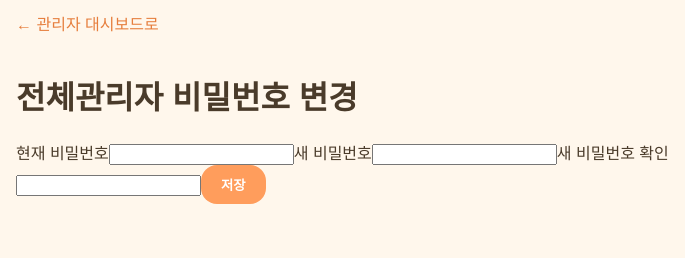
SuperAdminPasswordPage › 현재 비밀번호가 틀리면(재인증 실패) 에러 문구를 보여준다
Type "wrongpw" into the password field labelled "현재 비밀번호". click: (201, 154)
box: [109,144,294,165]
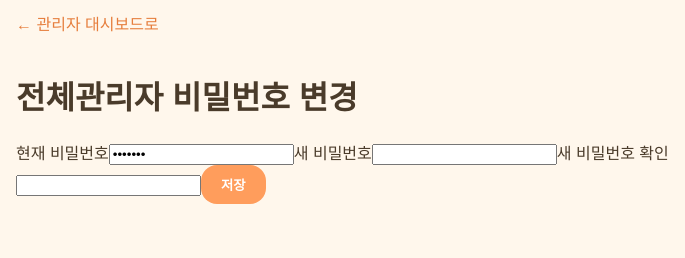
Type "newpw123" into the password field labelled "새 비밀번호". click: (464, 154)
box: [372,144,557,165]
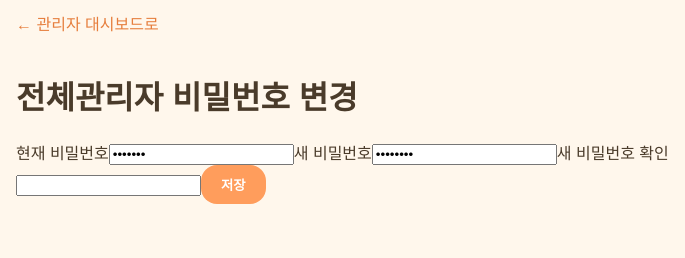
Type "newpw123" into the password field labelled "새 비밀번호 확인". click: (108, 185)
box: [16,175,201,196]
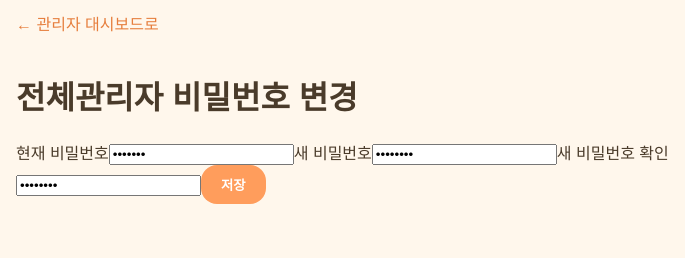
Click the button "저장". click: click(233, 184)
box: [201,165,266,204]
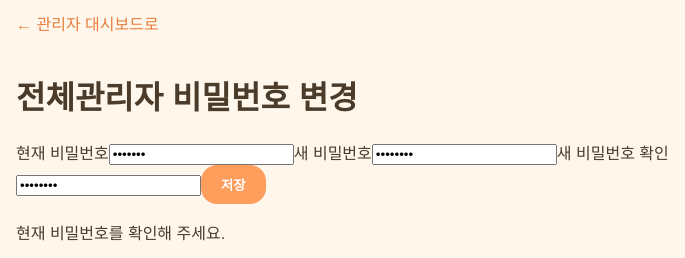
Expected: the message shows "현재 비밀번호를 확인해 주세요", [16,225,225,242]
